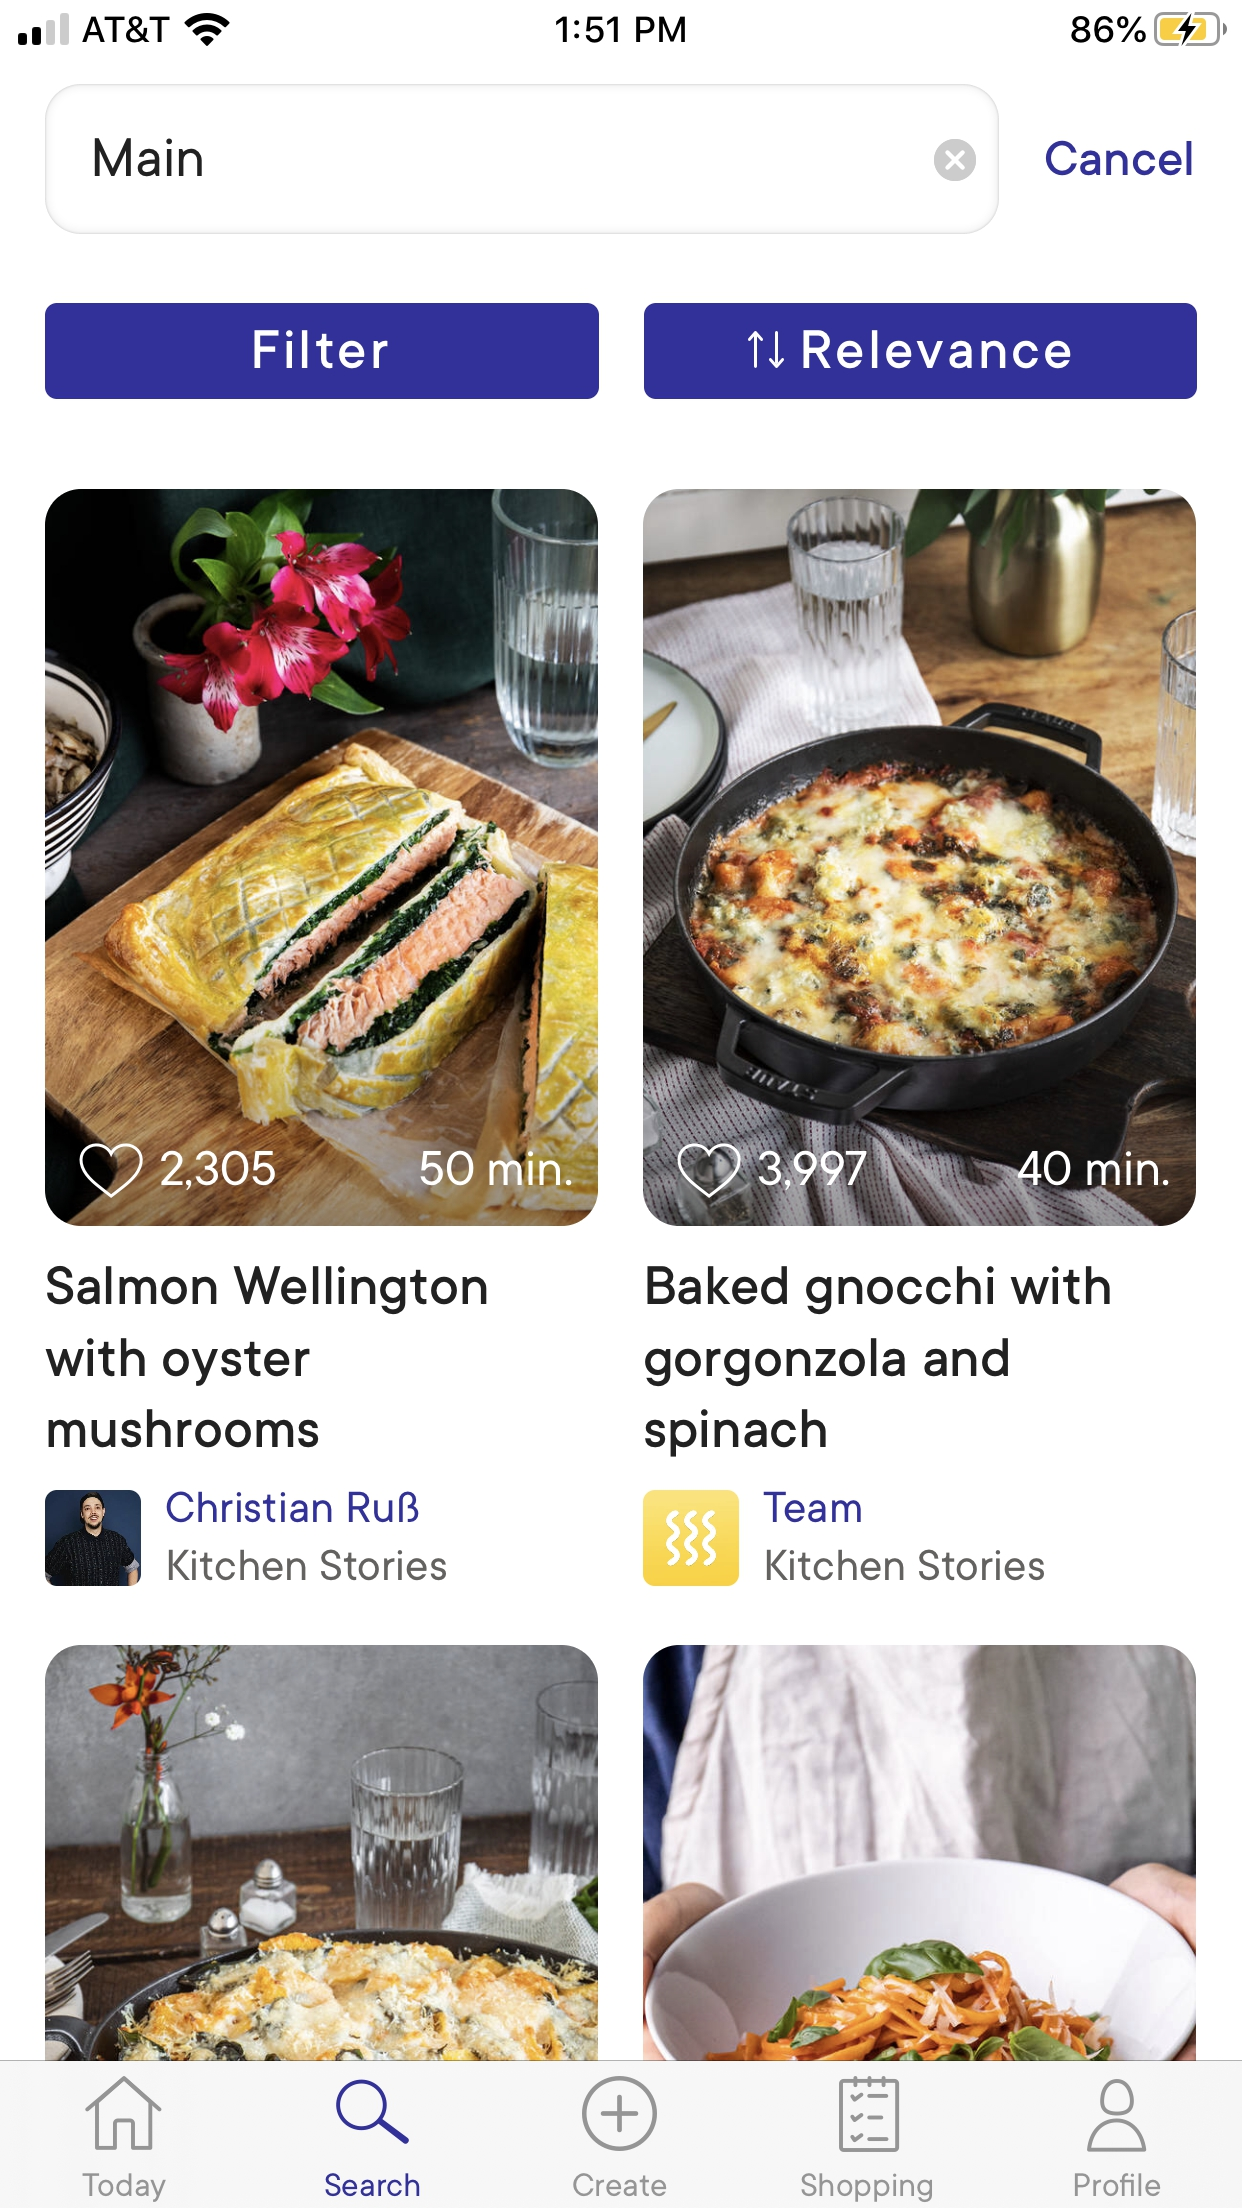EditText: (45, 83, 999, 235)
Icon: (85, 2075, 162, 2150), (582, 2075, 658, 2150), (839, 2075, 901, 2153), (337, 2079, 409, 2144), (1084, 2078, 1146, 2153), (80, 1142, 146, 1200), (676, 1143, 742, 1200), (934, 140, 977, 182)
Image: (45, 488, 599, 1227), (643, 488, 1197, 1227), (45, 1644, 599, 2059), (643, 1644, 1197, 2059), (643, 1489, 742, 1586), (45, 1489, 143, 1586)
Text: (645, 1265, 1112, 1457), (47, 1265, 487, 1450), (168, 1548, 447, 1582), (766, 1548, 1045, 1582), (165, 1491, 420, 1523), (420, 1149, 572, 1187), (1018, 1149, 1169, 1187), (1045, 140, 1192, 177), (161, 1149, 276, 1192), (757, 1149, 867, 1192), (801, 2172, 934, 2203), (96, 140, 203, 177), (763, 1491, 861, 1524), (82, 2172, 168, 2203), (572, 2172, 667, 2197), (325, 2173, 422, 2197), (1074, 2172, 1162, 2196)
TextButton: (45, 303, 601, 400), (645, 303, 1197, 400)
UpperTaskBar: (2, 2, 1242, 49)
